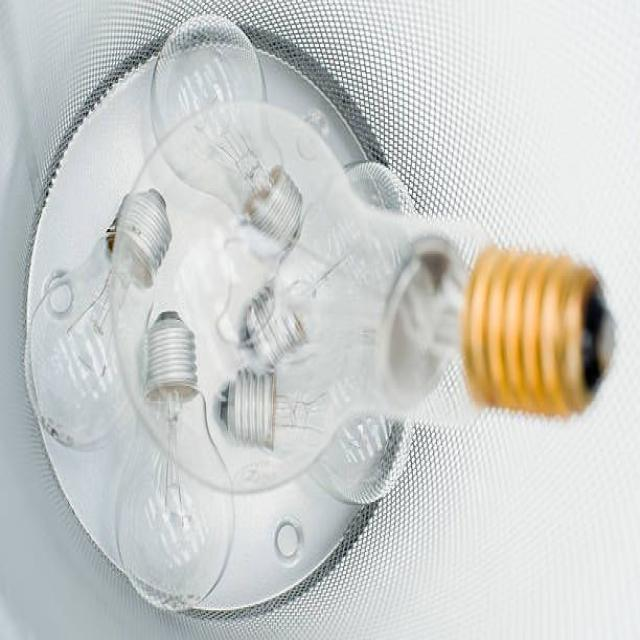electronic: (26, 17, 614, 612), (28, 185, 172, 449), (114, 308, 235, 607), (150, 22, 304, 252), (459, 243, 614, 419), (106, 185, 172, 290), (141, 309, 199, 405)
